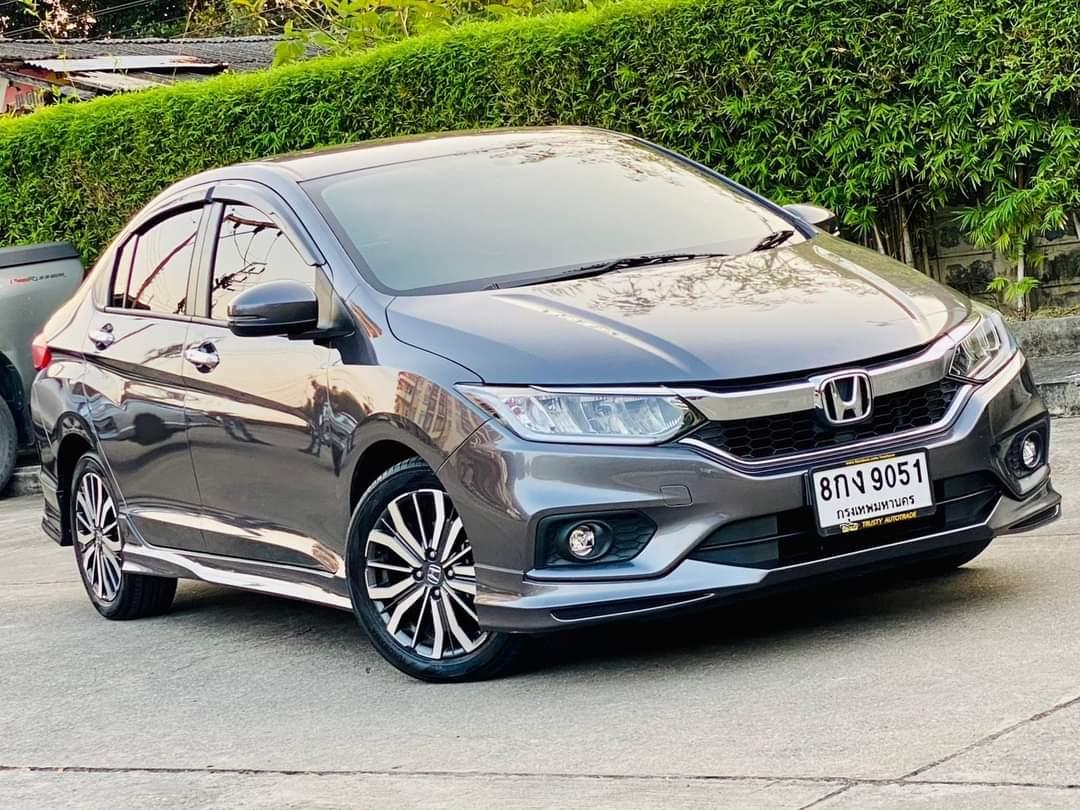license-plate: (799, 444, 942, 548)
